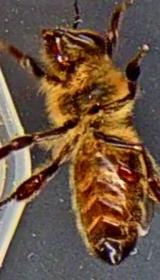varroa_mite: (100, 148, 152, 193)
